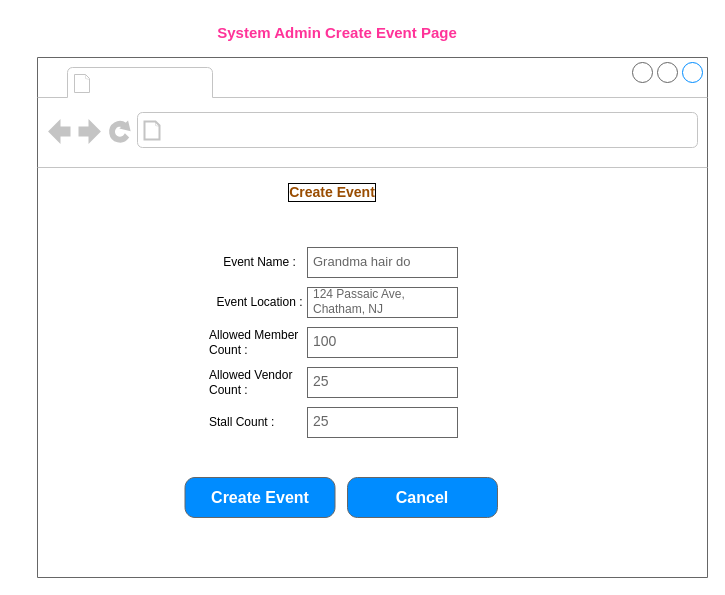
The diagram is 725 pixels wide and 595 high, and some of its shapes have lost their labels. Each missing label, with the centre of its shape:
"https://lms.com/adminuser/create-event" goes at point (292, 130).
"LMS" goes at point (152, 82).
